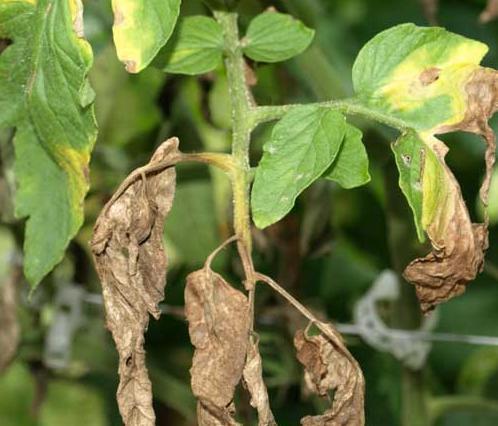Tomato Early blight leaf: (0, 0, 93, 299), (350, 8, 498, 134), (100, 0, 190, 85)
Tomato leaf: (243, 109, 356, 230)
